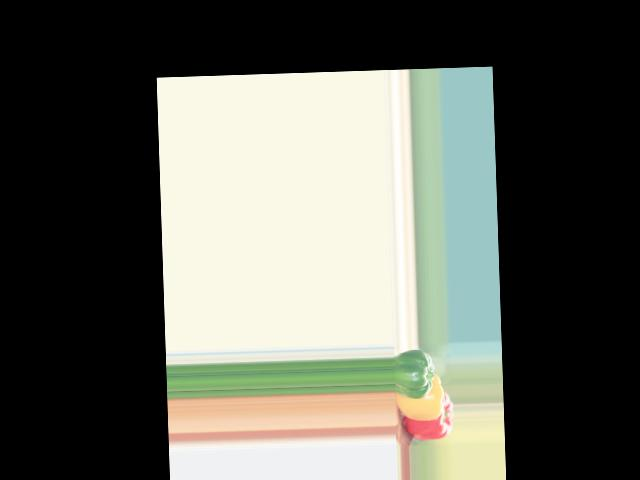bell_pepper: (396, 391, 453, 440)
